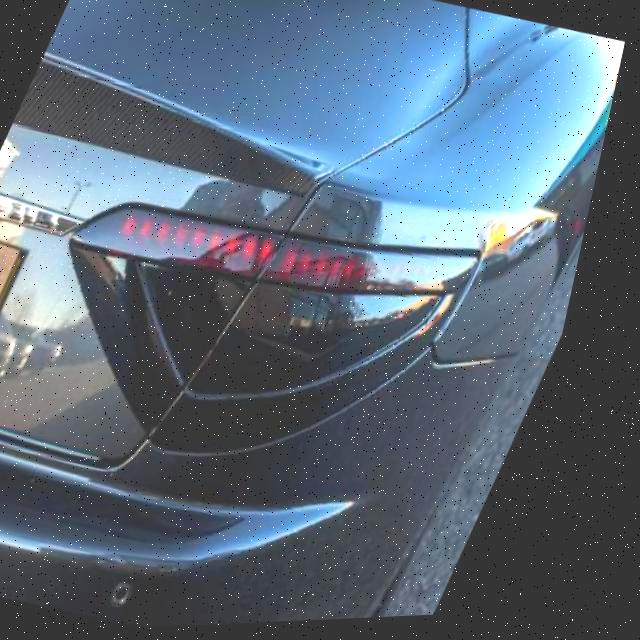license_plate: (0, 226, 42, 376)
